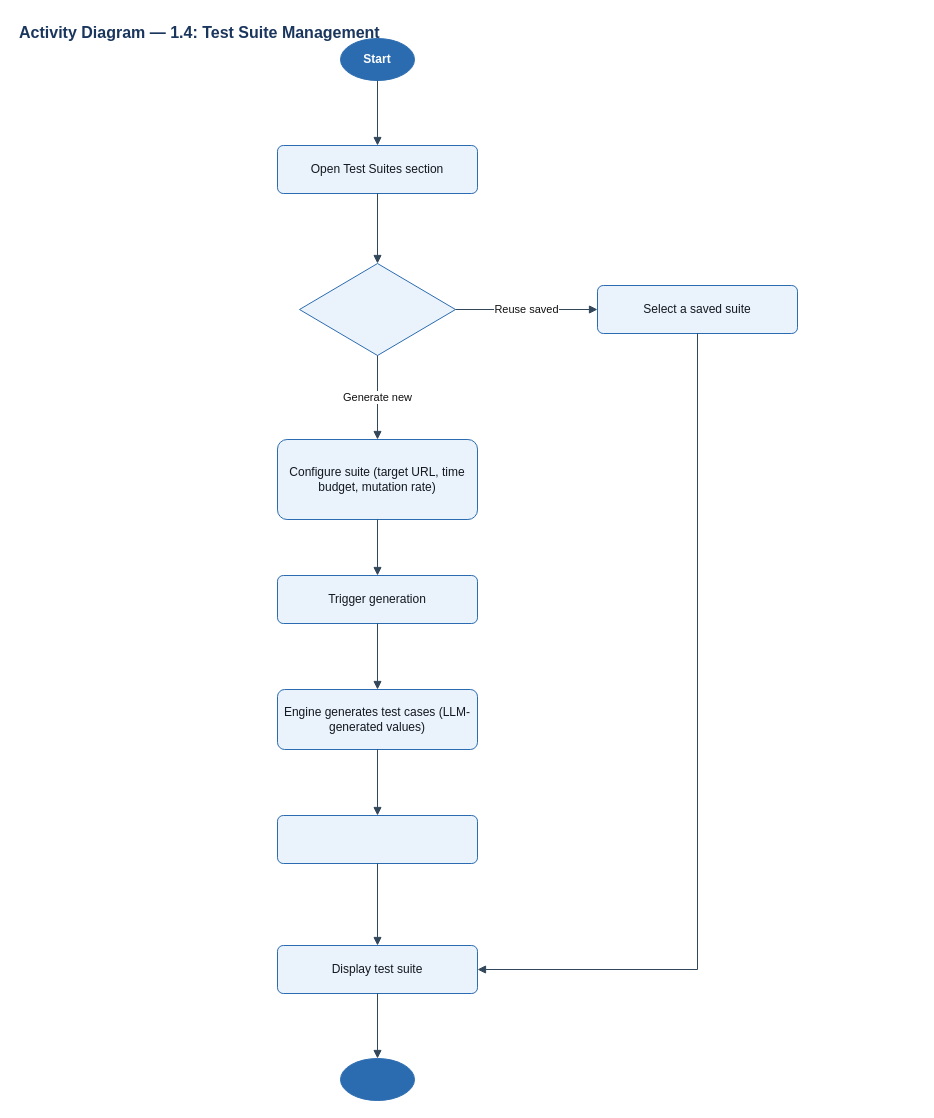
The diagram is 934 pixels wide and 1118 high, and some of its shapes have lost their labels. The centre of each missing label's shape, as x and y in pixels:
"End" belongs at (x=377, y=1079).
"New or reuse?" belongs at (x=377, y=309).
"Save test suite" belongs at (x=377, y=839).
